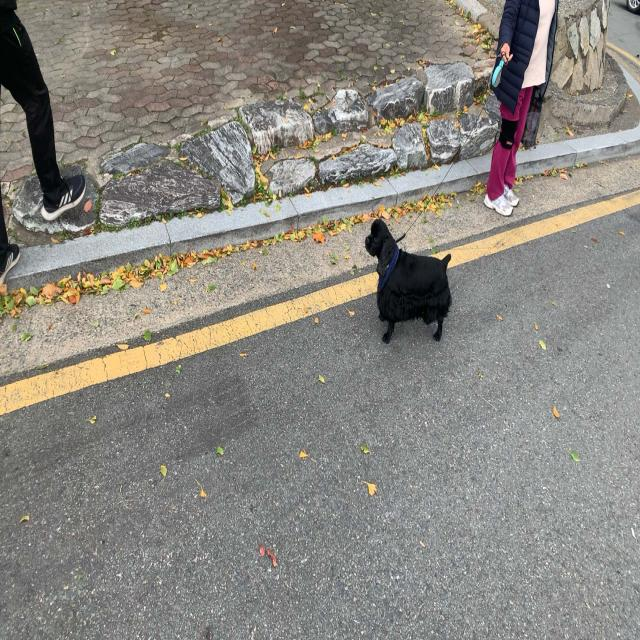Leashed_Dog: (366, 43, 520, 345)
